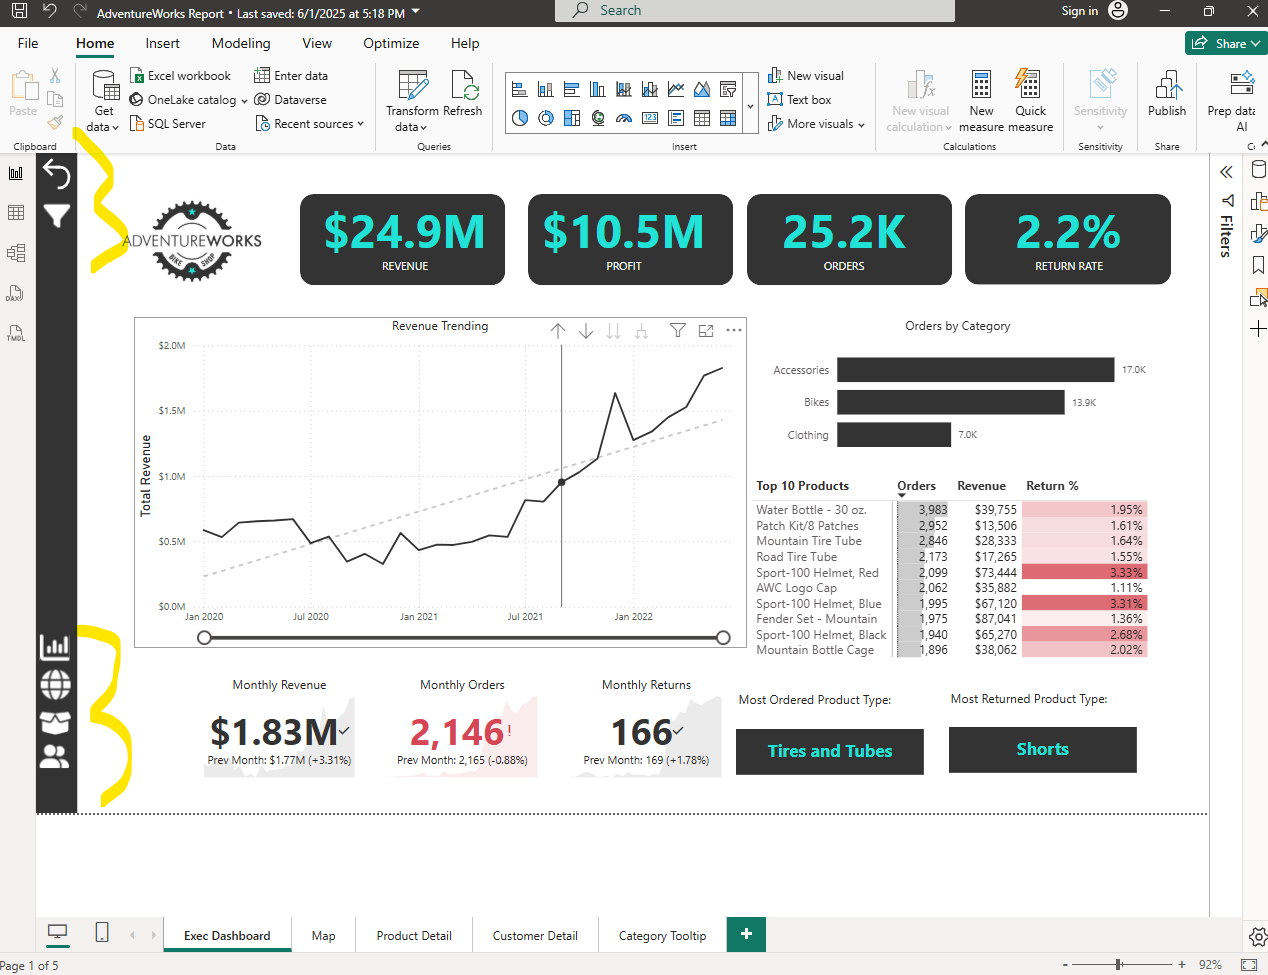

This screenshot's page, from the dashboard's own definition file:
{"tool":"powerbi","page":{"name":"Exec Dashboard","canvas":[1280,720],"ordinal":0},"visuals":[{"type":"image","title":"AW Logo","box":[52.9,44.7,235.1,103.4],"z":0},{"type":"group","id":"g1","title":"KPI Backgrounds","box":[282.5,45.2,956.1,99.9],"z":0,"group":"g3"},{"type":"shape","box":[287.4,45.2,224.5,99.9],"z":0,"group":"g1"},{"type":"card","fields":{"Values":["Measure Table.Return Rate"]},"box":[1006.5,45.2,240,91.6],"z":0,"group":"g2"},{"type":"actionButton","box":[0.2,519,44.7,40.7],"z":0,"group":"g4"},{"type":"shape","title":"Left Nav Background","box":[0,0,45,720.5],"z":1000},{"type":"group","id":"g2","title":"KPI Values","box":[521.3,45.2,725.2,91.6],"z":1000,"group":"g3"},{"type":"shape","box":[536.7,45.2,224.5,99.9],"z":1000,"group":"g1"},{"type":"card","fields":{"Values":["Measure Table.Total Orders"]},"box":[761.3,45.2,240,91.6],"z":1000,"group":"g2"},{"type":"actionButton","box":[1.4,559.7,46.1,40.7],"z":1000,"group":"g4"},{"type":"group","id":"g3","title":"KPIs","box":[282.5,45.2,963.9,99.9],"z":2000},{"type":"card","fields":{"Values":["Measure Table.Total Profit"]},"box":[521.3,45.2,240,91.6],"z":2000,"group":"g2"},{"type":"shape","box":[775.4,45.2,224.5,99.9],"z":2000,"group":"g1"},{"type":"actionButton","box":[0.2,600.4,44.7,42],"z":2000,"group":"g4"},{"type":"card","fields":{"Values":["Measure Table.Total Revenue"]},"box":[282.5,45.2,240,91.6],"z":3000,"group":"g1"},{"type":"lineChart","title":"Revenue Trending","fields":{"Y":["Measure Table.Total Revenue"],"Category":["Calendar Lookup.Year","Calendar Lookup.Start of Quarter","Calendar Lookup.Start of Month"]},"box":[107.1,179.4,668.4,361.3],"z":3000},{"type":"actionButton","box":[0,637.5,43.6,40.3],"z":3000,"group":"g4"},{"type":"shape","box":[1014.1,45.2,224.5,99.4],"z":4000,"group":"g1"},{"type":"kpi","title":"Monthly Revenue","fields":{"Indicator":["Measure Table.Total Revenue"],"TrendLine":["Calendar Lookup.Start of Month"],"Goal":["Measure Table.Previous Month Revenue"]},"box":[178.1,570.3,175.5,116.1],"z":4000},{"type":"kpi","title":"Monthly Returns","fields":{"TrendLine":["Calendar Lookup.Start of Month"],"Indicator":["Measure Table.Total Returns"],"Goal":["Measure Table.Previous Month Returns"]},"box":[578.1,570.3,175.5,116.1],"z":5000},{"type":"kpi","title":"Monthly Orders","fields":{"TrendLine":["Calendar Lookup.Start of Month"],"Indicator":["Measure Table.Total Orders"],"Goal":["Measure Table.Previous Month Orders"]},"box":[378.1,570.3,175.5,116.1],"z":6000},{"type":"clusteredBarChart","title":"Orders by Category","fields":{"Category":["Product Categories Lookup.CategoryName"],"Y":["Measure Table.Total Orders"]},"box":[794.8,179.4,423.2,162.6],"z":7000},{"type":"pivotTable","fields":{"Rows":["Product Lookup.ProductName"],"Values":["Measure Table.Total Orders","Measure Table.Total Revenue","Measure Table.Return Rate"]},"box":[775.6,349,490.3,221.6],"z":8000},{"type":"card","fields":{"Values":["Min(Product Subcategories Lookup.SubcategoryName)"]},"box":[763.9,628.4,205.2,50.3],"z":9000},{"type":"textbox","box":[761.3,583.2,194.8,34.8],"z":10000},{"type":"card","fields":{"Values":["Min(Product Subcategories Lookup.SubcategoryName)"]},"box":[995.8,626.8,205.2,50.3],"z":11000},{"type":"textbox","box":[993.2,581.6,194.8,34.8],"z":12000},{"type":"actionButton","box":[0,0,45.2,45.2],"z":13000},{"type":"group","id":"g4","title":"Navigation buttons","box":[0,519,47.5,158.7],"z":14000},{"type":"actionButton","box":[3.9,50.3,43.9,37.4],"z":15000}]}

Visuals, with their boxes on the page's 1280x720 design canvas (x1, y1, x2, y2). These are canvas units, not pixel positions in the 1268x975 screenshot, which may show the page scaled, cropped or inside an application window:
"AW Logo" image: bbox=(53, 45, 288, 148)
"KPI Backgrounds" group: bbox=(282, 45, 1239, 145)
shape: bbox=(287, 45, 512, 145)
card - Measure Table.Return Rate: bbox=(1006, 45, 1246, 137)
actionButton: bbox=(0, 519, 45, 560)
"Left Nav Background" shape: bbox=(0, 0, 45, 720)
"KPI Values" group: bbox=(521, 45, 1246, 137)
shape: bbox=(537, 45, 761, 145)
card - Measure Table.Total Orders: bbox=(761, 45, 1001, 137)
actionButton: bbox=(1, 560, 48, 600)
"KPIs" group: bbox=(282, 45, 1246, 145)
card - Measure Table.Total Profit: bbox=(521, 45, 761, 137)
shape: bbox=(775, 45, 1000, 145)
actionButton: bbox=(0, 600, 45, 642)
card - Measure Table.Total Revenue: bbox=(282, 45, 522, 137)
"Revenue Trending" lineChart: bbox=(107, 179, 776, 541)
actionButton: bbox=(0, 638, 44, 678)
shape: bbox=(1014, 45, 1239, 145)
"Monthly Revenue" kpi: bbox=(178, 570, 354, 686)
"Monthly Returns" kpi: bbox=(578, 570, 754, 686)
"Monthly Orders" kpi: bbox=(378, 570, 554, 686)
"Orders by Category" clusteredBarChart: bbox=(795, 179, 1218, 342)
pivotTable - Product Lookup.ProductName x Measure Table.Total Orders: bbox=(776, 349, 1266, 571)
card - Min(Product Subcategories Lookup.SubcategoryName): bbox=(764, 628, 969, 679)
textbox: bbox=(761, 583, 956, 618)
card - Min(Product Subcategories Lookup.SubcategoryName): bbox=(996, 627, 1201, 677)
textbox: bbox=(993, 582, 1188, 616)
actionButton: bbox=(0, 0, 45, 45)
"Navigation buttons" group: bbox=(0, 519, 48, 678)
actionButton: bbox=(4, 50, 48, 88)
